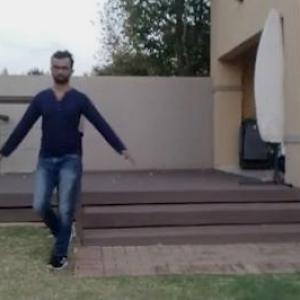land: (0, 45, 148, 279)
